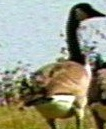goose: (1, 1, 105, 129)
